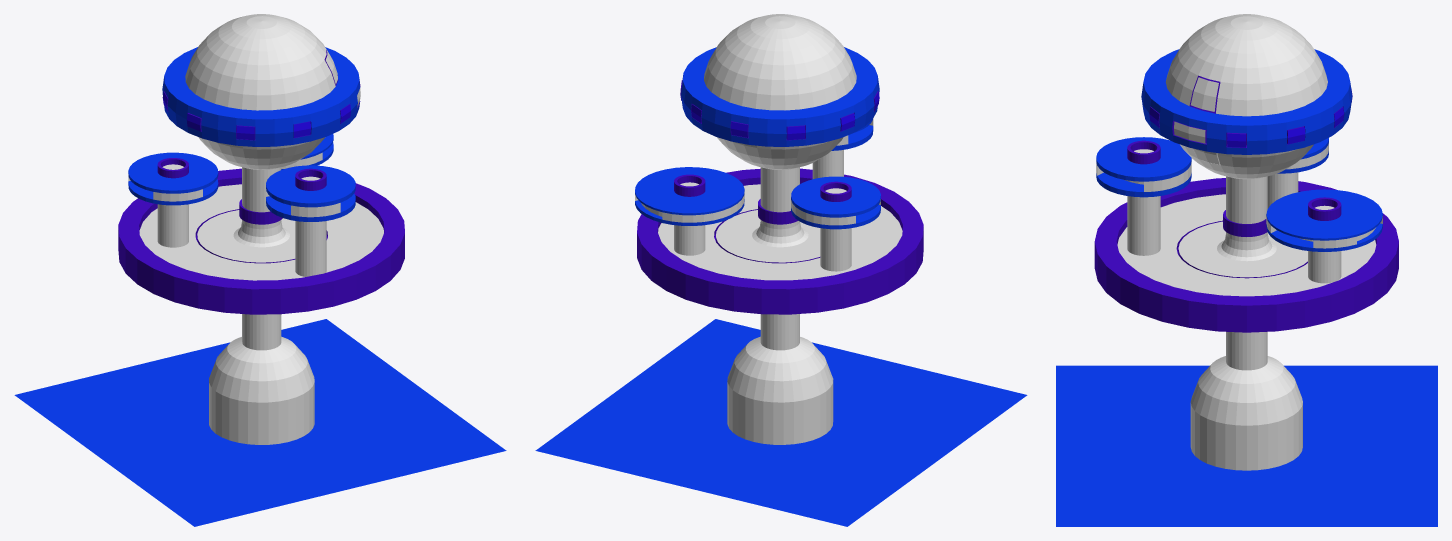
File: mobile_1_blue.fbx
3 renders of one model, left to right at view 1: azimuth 30°, elevation 25°; view 2: azimuth 150°, elevation 25°; view 3: azimuth 270°, elevation 25°, orthographic. The views are drawn at different scales.
Parts seen in each view (by area): view 1: Cylinder.003, Plane; view 2: Cylinder.003, Plane; view 3: Cylinder.003, Plane.
Boxes of the visible parts, x1,y1,x2,y2 form: Cylinder.003: [118, 14, 404, 444]; Plane: [14, 319, 506, 526]; Cylinder.003: [635, 14, 923, 444]; Plane: [535, 319, 1027, 526]; Cylinder.003: [1094, 14, 1398, 470]; Plane: [1056, 365, 1437, 526].
Bounding box in the file's own units: 1000 × 1249 × 1000.
